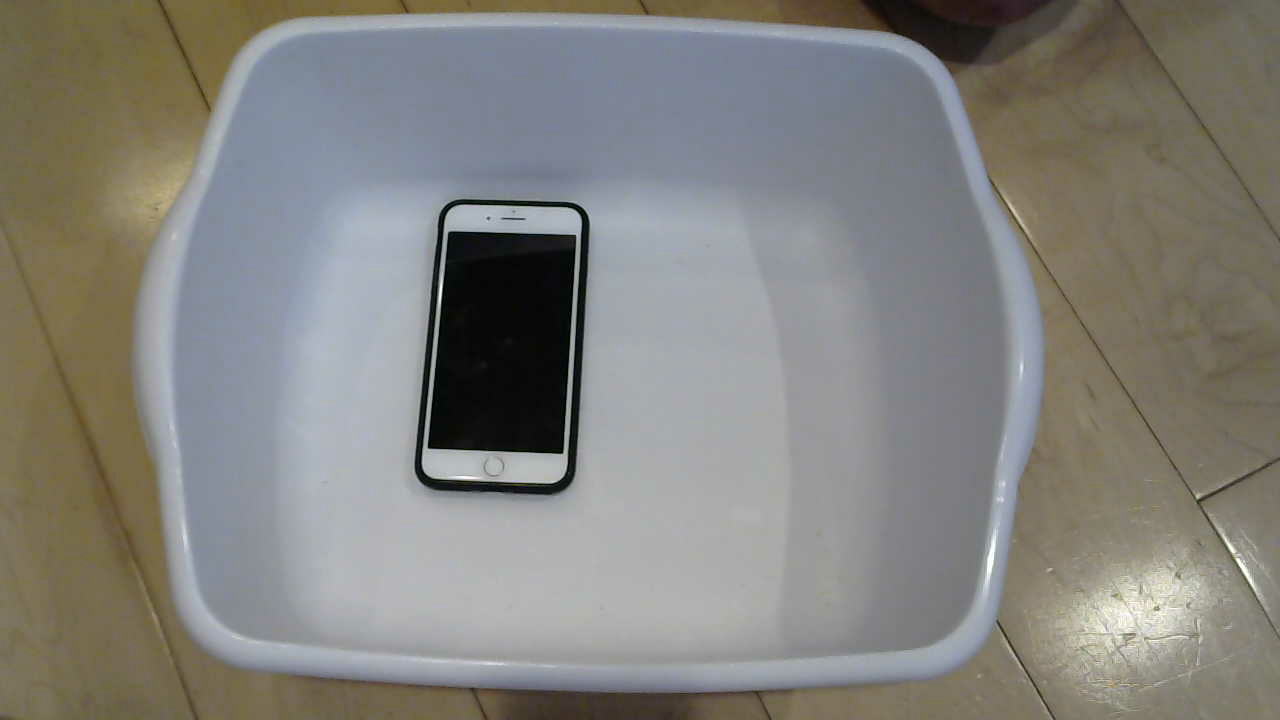phone: (410, 185, 617, 518)
